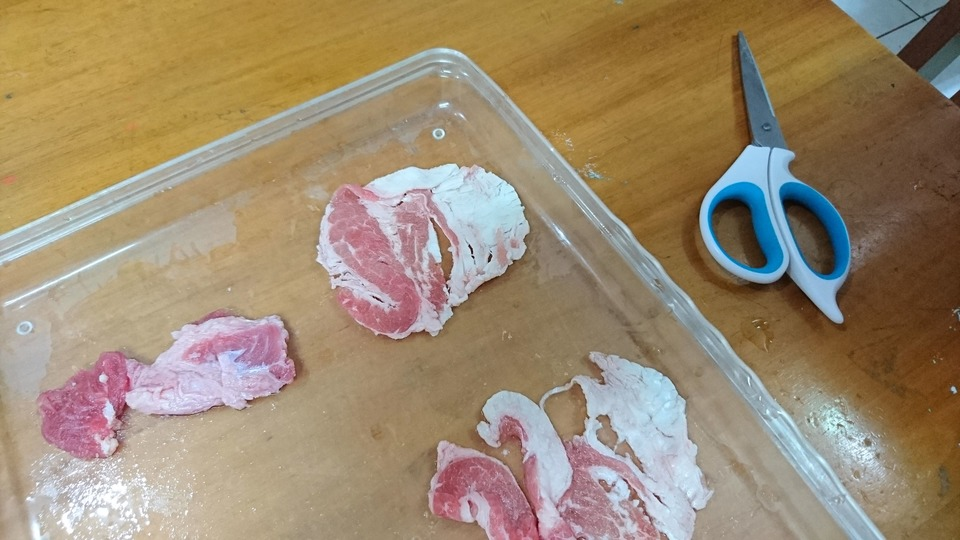restructured meat: (426, 347, 717, 540), (32, 285, 296, 454)
